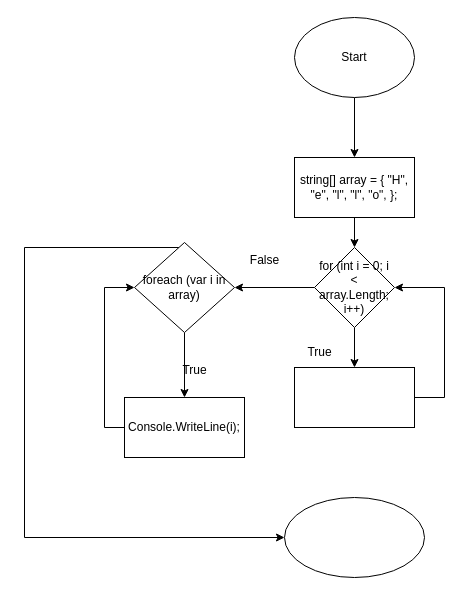
Image size: 470x595. Some labels were removed from this diagram. Here are the shapes that lost their labels. From the top down, the centre of each, then its label:
[354,397]: Console.WriteLine(array[i]);
[354,537]: Stop
